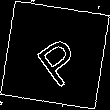P_NW: (25, 24, 85, 86)
